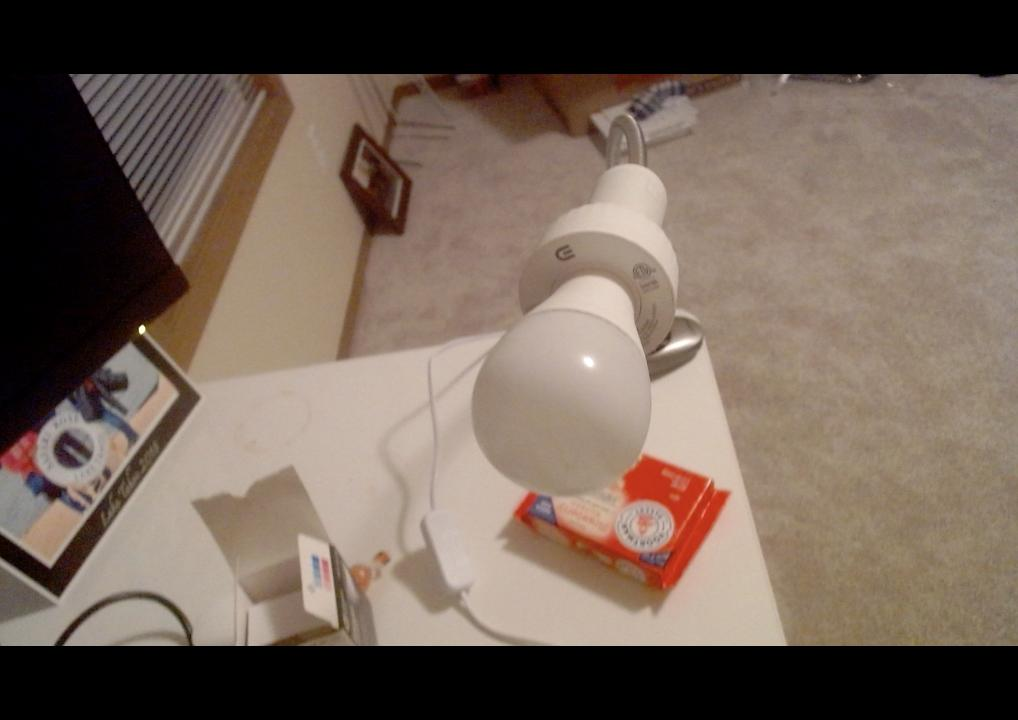Fan: (470, 275, 653, 494)
